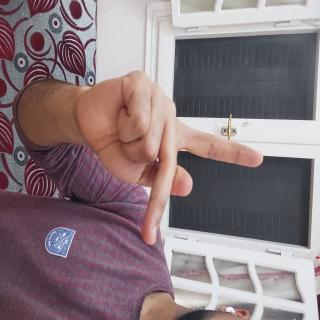DHAA: (47, 69, 185, 320)
